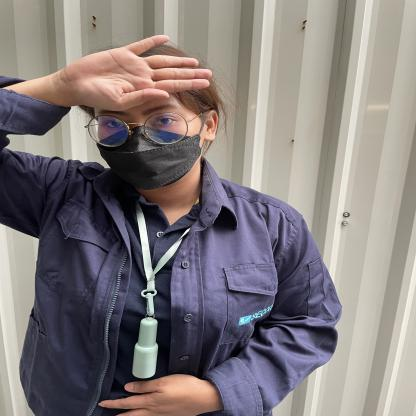Sick: (20, 28, 276, 111)
